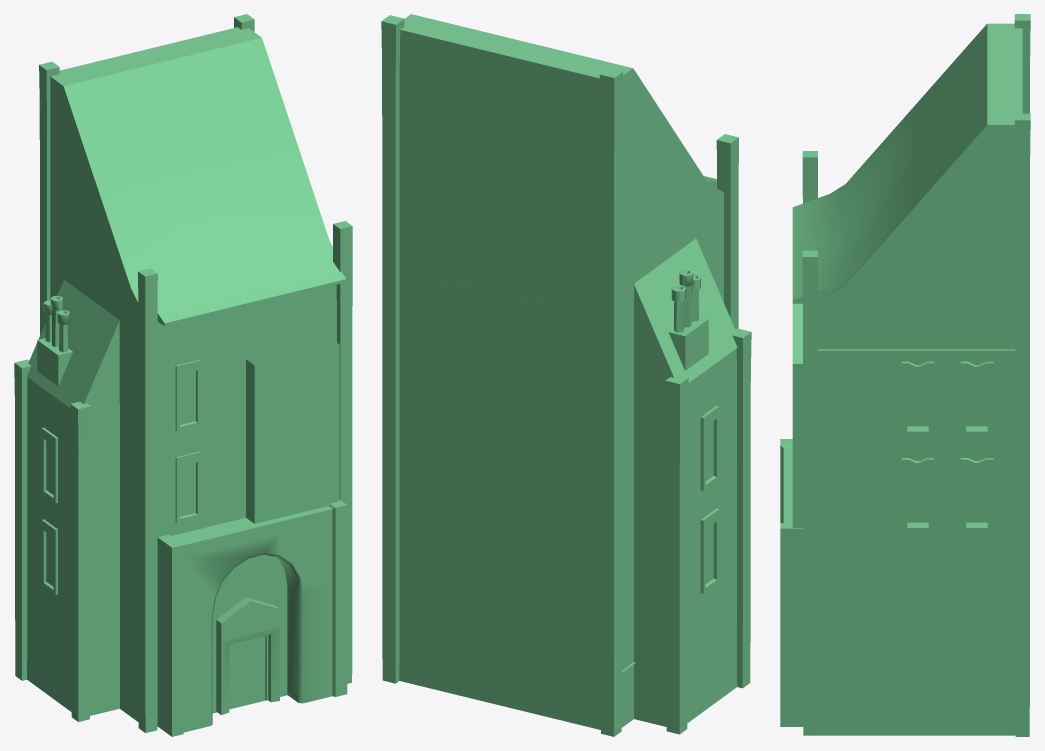
The model's file is Bgr_Building11.fbx.
3 renders of one model, left to right at view 1: azimuth 30°, elevation 25°; view 2: azimuth 150°, elevation 25°; view 3: azimuth 270°, elevation 25°, orthographic. The views are drawn at different scales.
Visible parts, largest first — view 1: Bgr_Building11; view 2: Bgr_Building11; view 3: Bgr_Building11.
Boxes of the visible parts, <box> form: Bgr_Building11: <box>14,14,352,736</box>; Bgr_Building11: <box>381,14,751,736</box>; Bgr_Building11: <box>780,14,1030,736</box>.
Bounding box in the file's own units: 1328 × 2885 × 1061.
